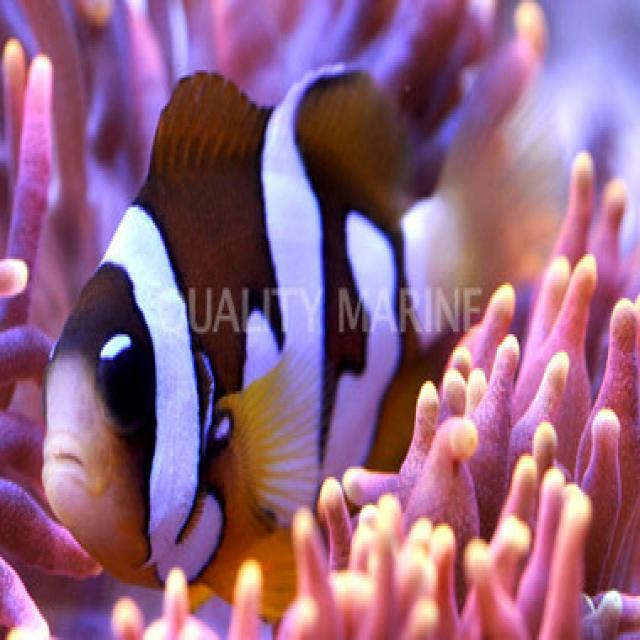ClownFish: (41, 65, 476, 603)
